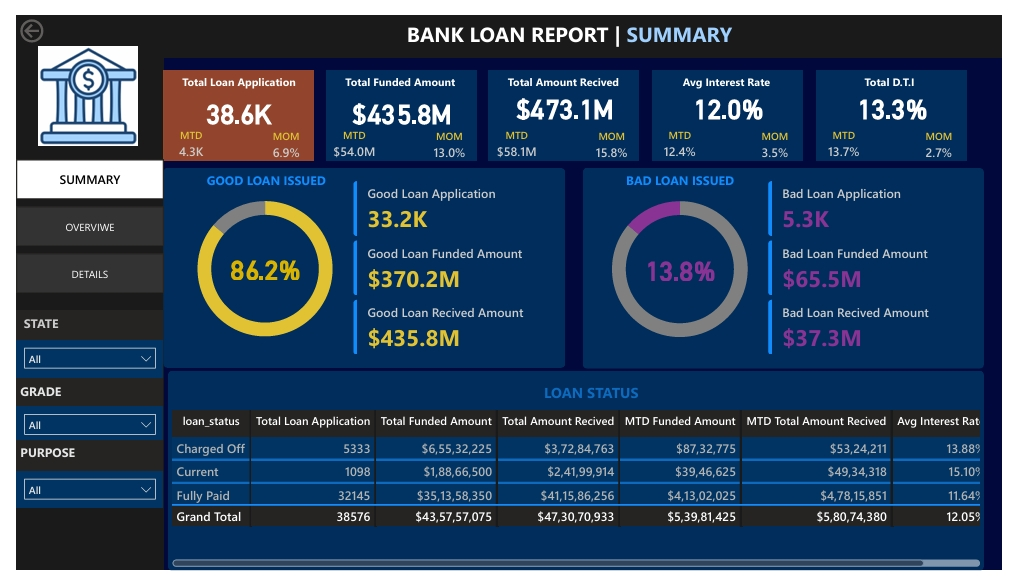

This screenshot's page, from the dashboard's own definition file:
{"tool":"powerbi","page":{"name":"SUMMARY","canvas":[1280,720],"ordinal":0},"visuals":[{"type":"shape","box":[191.3,70.9,195.6,117.6],"z":0,"group":"g1"},{"type":"shape","box":[402.9,70.9,195.6,117.6],"z":0,"group":"g2"},{"type":"shape","box":[614.4,70.9,195.6,117.6],"z":0,"group":"g4"},{"type":"shape","box":[825.9,70.9,195.6,117.6],"z":0,"group":"g6"},{"type":"shape","box":[1038.9,70.9,195.6,117.6],"z":0,"group":"g7"},{"type":"shape","box":[735.6,198.4,521.6,259.4],"z":0},{"type":"shape","box":[191.3,0,1088.5,55.3],"z":1000},{"type":"card","fields":{"Values":["bank_loan_data.Total Amount Recived"]},"box":[615.2,98.8,195.6,41.1],"z":1000,"group":"g4"},{"type":"card","fields":{"Values":["bank_loan_data.Avg Interest Rate"]},"box":[826.7,98.8,195.6,41.1],"z":1000,"group":"g6"},{"type":"card","fields":{"Values":["bank_loan_data.Avg DTI"]},"box":[1039.7,98.8,195.6,41.1],"z":1000,"group":"g7"},{"type":"card","fields":{"Values":["bank_loan_data.Total Loan Application"]},"box":[191.3,104.9,195.6,41.1],"z":1000,"group":"g1"},{"type":"card","fields":{"Values":["bank_loan_data.Total Funded Amount"]},"box":[402.9,104.9,195.6,41.1],"z":1000,"group":"g2"},{"type":"shape","box":[191.3,198.4,521.6,259.4],"z":1000,"group":"g8"},{"type":"donutChart","fields":{"Category":["bank_loan_data.loan_status (groups)"],"Y":["bank_loan_data.Total Loan Application"]},"box":[206.9,214,232.4,229.6],"z":1500,"group":"g8"},{"type":"shape","box":[0,0,192,720],"z":2000},{"type":"textbox","box":[191.3,70.9,195.6,34],"z":2000,"group":"g1"},{"type":"textbox","box":[402.9,70.9,195.6,34],"z":2000,"group":"g2"},{"type":"textbox","box":[614.4,70.9,195.6,34],"z":2000,"group":"g4"},{"type":"textbox","box":[825.9,70.9,195.6,34],"z":2000,"group":"g6"},{"type":"textbox","box":[1038.9,70.9,195.6,34],"z":2000,"group":"g7"},{"type":"card","fields":{"Values":["bank_loan_data.Good Loan %"]},"box":[225.3,307.5,195.6,41.1],"z":2000,"group":"g8"},{"type":"card","title":"MTD","fields":{"Values":["bank_loan_data.MTD Loan Application"]},"box":[191.3,146,72.3,41.1],"z":3000,"group":"g1"},{"type":"card","title":"MTD","fields":{"Values":["bank_loan_data.MTD Funded Amount"]},"box":[402.9,146,72.3,41.1],"z":3000,"group":"g2"},{"type":"card","title":"MTD","fields":{"Values":["bank_loan_data.MTD Total Amount Recived"]},"box":[614.4,146,72.3,41.1],"z":3000,"group":"g4"},{"type":"card","title":"MTD","fields":{"Values":["bank_loan_data.MTD Avg Int Rate"]},"box":[825.9,146,72.3,41.1],"z":3000,"group":"g6"},{"type":"card","title":"MTD","fields":{"Values":["bank_loan_data.MTD Avg DTI"]},"box":[1038.9,146,72.3,41.1],"z":3000,"group":"g7"},{"type":"donutChart","fields":{"Category":["bank_loan_data.loan_status (groups)"],"Y":["bank_loan_data.Total Loan Application"]},"box":[745.5,214,232.4,229.6],"z":3000},{"type":"textbox","box":[457.8,0,527.2,55.3],"z":4000},{"type":"card","title":"MOM","fields":{"Values":["bank_loan_data.MOM Loan Application"]},"box":[314.6,147.4,72.3,41.1],"z":4000,"group":"g1"},{"type":"card","title":"MOM","fields":{"Values":["bank_loan_data.MOM Total Funded Amount"]},"box":[526.2,147.4,72.3,41.1],"z":4000,"group":"g2"},{"type":"card","title":"MOM","fields":{"Values":["bank_loan_data.MOM Total Amount Recived"]},"box":[737.7,147.4,72.3,41.1],"z":4000,"group":"g4"},{"type":"card","title":"MOM","fields":{"Values":["bank_loan_data.MOM Avg Int Rate"]},"box":[949.2,147.4,72.3,41.1],"z":4000,"group":"g6"},{"type":"card","title":"MOM","fields":{"Values":["bank_loan_data.MOM Avg DTI"]},"box":[1162.2,147.4,72.3,41.1],"z":4000,"group":"g7"},{"type":"card","fields":{"Values":["bank_loan_data.Bad Loan %"]},"box":[763.9,307.6,195.6,41.1],"z":5000},{"type":"group","id":"g1","title":"Group 1","box":[191.3,70.9,195.6,117.6],"z":6000},{"type":"group","id":"g2","title":"Group 1","box":[402.9,70.9,195.6,117.6],"z":7000},{"type":"group","id":"g3","title":"Group 2","box":[614.4,70.9,196.3,117.6],"z":7002,"group":"g5"},{"type":"group","id":"g4","title":"Group 3","box":[614.4,70.9,196.3,117.6],"z":7002,"group":"g3"},{"type":"group","id":"g5","title":"Group 1","box":[614.4,70.9,195.6,117.6],"z":8000},{"type":"actionButton","box":[0,0,100,40],"z":9000},{"type":"group","id":"g6","title":"Group 3","box":[825.9,70.9,197,117.6],"z":10000},{"type":"group","id":"g7","title":"Group 3","box":[1038.9,70.9,197,117.6],"z":11000},{"type":"group","id":"g8","title":"Group 4","box":[191.3,198.4,521.6,259.4],"z":12000},{"type":"textbox","box":[206.9,198.4,232.4,36.9],"z":13000},{"type":"cardVisual","fields":{"Data":["bank_loan_data.Good Loan Application","bank_loan_data.Good Loan Funded Amount","bank_loan_data.Good Loan Recived Amount"]},"box":[420.9,198.4,292,259.4],"z":14000},{"type":"cardVisual","fields":{"Data":["bank_loan_data.Bad Loan Application","bank_loan_data.Bad Loan Funded Amount","bank_loan_data.Bad Loan Recived Amount"]},"box":[959.5,198.4,292,259.4],"z":15000},{"type":"textbox","box":[763.9,198.4,195.6,36.9],"z":16000},{"type":"shape","box":[197,460.6,1060.2,259.4],"z":17000},{"type":"tableEx","fields":{"Values":["bank_loan_data.loan_status","bank_loan_data.Total Loan Application","bank_loan_data.Total Funded Amount","bank_loan_data.Total Amount Recived","bank_loan_data.MTD Funded Amount","bank_loan_data.MTD Total Amount Recived","bank_loan_data.Avg Interest Rate","bank_loan_data.Avg DTI"]},"box":[197,507.4,1060.2,212.6],"z":18000},{"type":"textbox","box":[525.8,470.6,433.7,36.9],"z":19000},{"type":"slicer","fields":{"Values":["bank_loan_data.address_state"]},"box":[0,420.9,191.3,49.6],"z":20000},{"type":"textbox","box":[0,382.7,191.3,38.3],"z":21000},{"type":"slicer","fields":{"Values":["bank_loan_data.grade"]},"box":[0,507.4,191.3,43.9],"z":22000},{"type":"textbox","box":[0,470.6,191.3,36.9],"z":23000},{"type":"slicer","fields":{"Values":["bank_loan_data.purpose"]},"box":[0,591,191.3,46.8],"z":24000},{"type":"textbox","box":[0,551.3,191.3,39.7],"z":25000},{"type":"image","box":[9.9,39.7,167.2,129],"z":25001},{"type":"pageNavigator","box":[0,187.1,191.3,172.9],"z":25002}]}

Visuals, with their boxes in screenshot pixels (x1, y1, x2, y2), scaled from the page's 1280x720 canvas onto the 1019x585 screenshot:
shape: pyautogui.locateOnScreen(152, 58, 308, 153)
shape: pyautogui.locateOnScreen(321, 58, 476, 153)
shape: pyautogui.locateOnScreen(489, 58, 645, 153)
shape: pyautogui.locateOnScreen(657, 58, 813, 153)
shape: pyautogui.locateOnScreen(827, 58, 983, 153)
shape: pyautogui.locateOnScreen(586, 161, 1001, 372)
shape: pyautogui.locateOnScreen(152, 0, 1018, 45)
card - bank_loan_data.Total Amount Recived: pyautogui.locateOnScreen(490, 80, 645, 114)
card - bank_loan_data.Avg Interest Rate: pyautogui.locateOnScreen(658, 80, 814, 114)
card - bank_loan_data.Avg DTI: pyautogui.locateOnScreen(828, 80, 983, 114)
card - bank_loan_data.Total Loan Application: pyautogui.locateOnScreen(152, 85, 308, 119)
card - bank_loan_data.Total Funded Amount: pyautogui.locateOnScreen(321, 85, 476, 119)
shape: pyautogui.locateOnScreen(152, 161, 568, 372)
donutChart - bank_loan_data.loan_status (groups) x bank_loan_data.Total Loan Application: pyautogui.locateOnScreen(165, 174, 350, 360)
shape: pyautogui.locateOnScreen(0, 0, 153, 584)
textbox: pyautogui.locateOnScreen(152, 58, 308, 85)
textbox: pyautogui.locateOnScreen(321, 58, 476, 85)
textbox: pyautogui.locateOnScreen(489, 58, 645, 85)
textbox: pyautogui.locateOnScreen(657, 58, 813, 85)
textbox: pyautogui.locateOnScreen(827, 58, 983, 85)
card - bank_loan_data.Good Loan %: pyautogui.locateOnScreen(179, 250, 335, 283)
"MTD" card: pyautogui.locateOnScreen(152, 119, 210, 152)
"MTD" card: pyautogui.locateOnScreen(321, 119, 378, 152)
"MTD" card: pyautogui.locateOnScreen(489, 119, 547, 152)
"MTD" card: pyautogui.locateOnScreen(657, 119, 715, 152)
"MTD" card: pyautogui.locateOnScreen(827, 119, 885, 152)
donutChart - bank_loan_data.loan_status (groups) x bank_loan_data.Total Loan Application: pyautogui.locateOnScreen(593, 174, 779, 360)
textbox: pyautogui.locateOnScreen(364, 0, 784, 45)
"MOM" card: pyautogui.locateOnScreen(250, 120, 308, 153)
"MOM" card: pyautogui.locateOnScreen(419, 120, 476, 153)
"MOM" card: pyautogui.locateOnScreen(587, 120, 645, 153)
"MOM" card: pyautogui.locateOnScreen(756, 120, 813, 153)
"MOM" card: pyautogui.locateOnScreen(925, 120, 983, 153)
card - bank_loan_data.Bad Loan %: pyautogui.locateOnScreen(608, 250, 764, 283)
"Group 1" group: pyautogui.locateOnScreen(152, 58, 308, 153)
"Group 1" group: pyautogui.locateOnScreen(321, 58, 476, 153)
"Group 2" group: pyautogui.locateOnScreen(489, 58, 645, 153)
"Group 3" group: pyautogui.locateOnScreen(489, 58, 645, 153)
"Group 1" group: pyautogui.locateOnScreen(489, 58, 645, 153)
actionButton: pyautogui.locateOnScreen(0, 0, 80, 32)
"Group 3" group: pyautogui.locateOnScreen(657, 58, 814, 153)
"Group 3" group: pyautogui.locateOnScreen(827, 58, 984, 153)
"Group 4" group: pyautogui.locateOnScreen(152, 161, 568, 372)
textbox: pyautogui.locateOnScreen(165, 161, 350, 191)
cardVisual - bank_loan_data.Good Loan Application x bank_loan_data.Good Loan Funded Amount: pyautogui.locateOnScreen(335, 161, 568, 372)
cardVisual - bank_loan_data.Bad Loan Application x bank_loan_data.Bad Loan Funded Amount: pyautogui.locateOnScreen(764, 161, 996, 372)
textbox: pyautogui.locateOnScreen(608, 161, 764, 191)
shape: pyautogui.locateOnScreen(157, 374, 1001, 584)
tableEx - bank_loan_data.loan_status x bank_loan_data.Total Loan Application: pyautogui.locateOnScreen(157, 412, 1001, 584)
textbox: pyautogui.locateOnScreen(419, 382, 764, 412)
slicer - bank_loan_data.address_state: pyautogui.locateOnScreen(0, 342, 152, 382)
textbox: pyautogui.locateOnScreen(0, 311, 152, 342)
slicer - bank_loan_data.grade: pyautogui.locateOnScreen(0, 412, 152, 448)
textbox: pyautogui.locateOnScreen(0, 382, 152, 412)
slicer - bank_loan_data.purpose: pyautogui.locateOnScreen(0, 480, 152, 518)
textbox: pyautogui.locateOnScreen(0, 448, 152, 480)
image: pyautogui.locateOnScreen(8, 32, 141, 137)
pageNavigator: pyautogui.locateOnScreen(0, 152, 152, 292)
